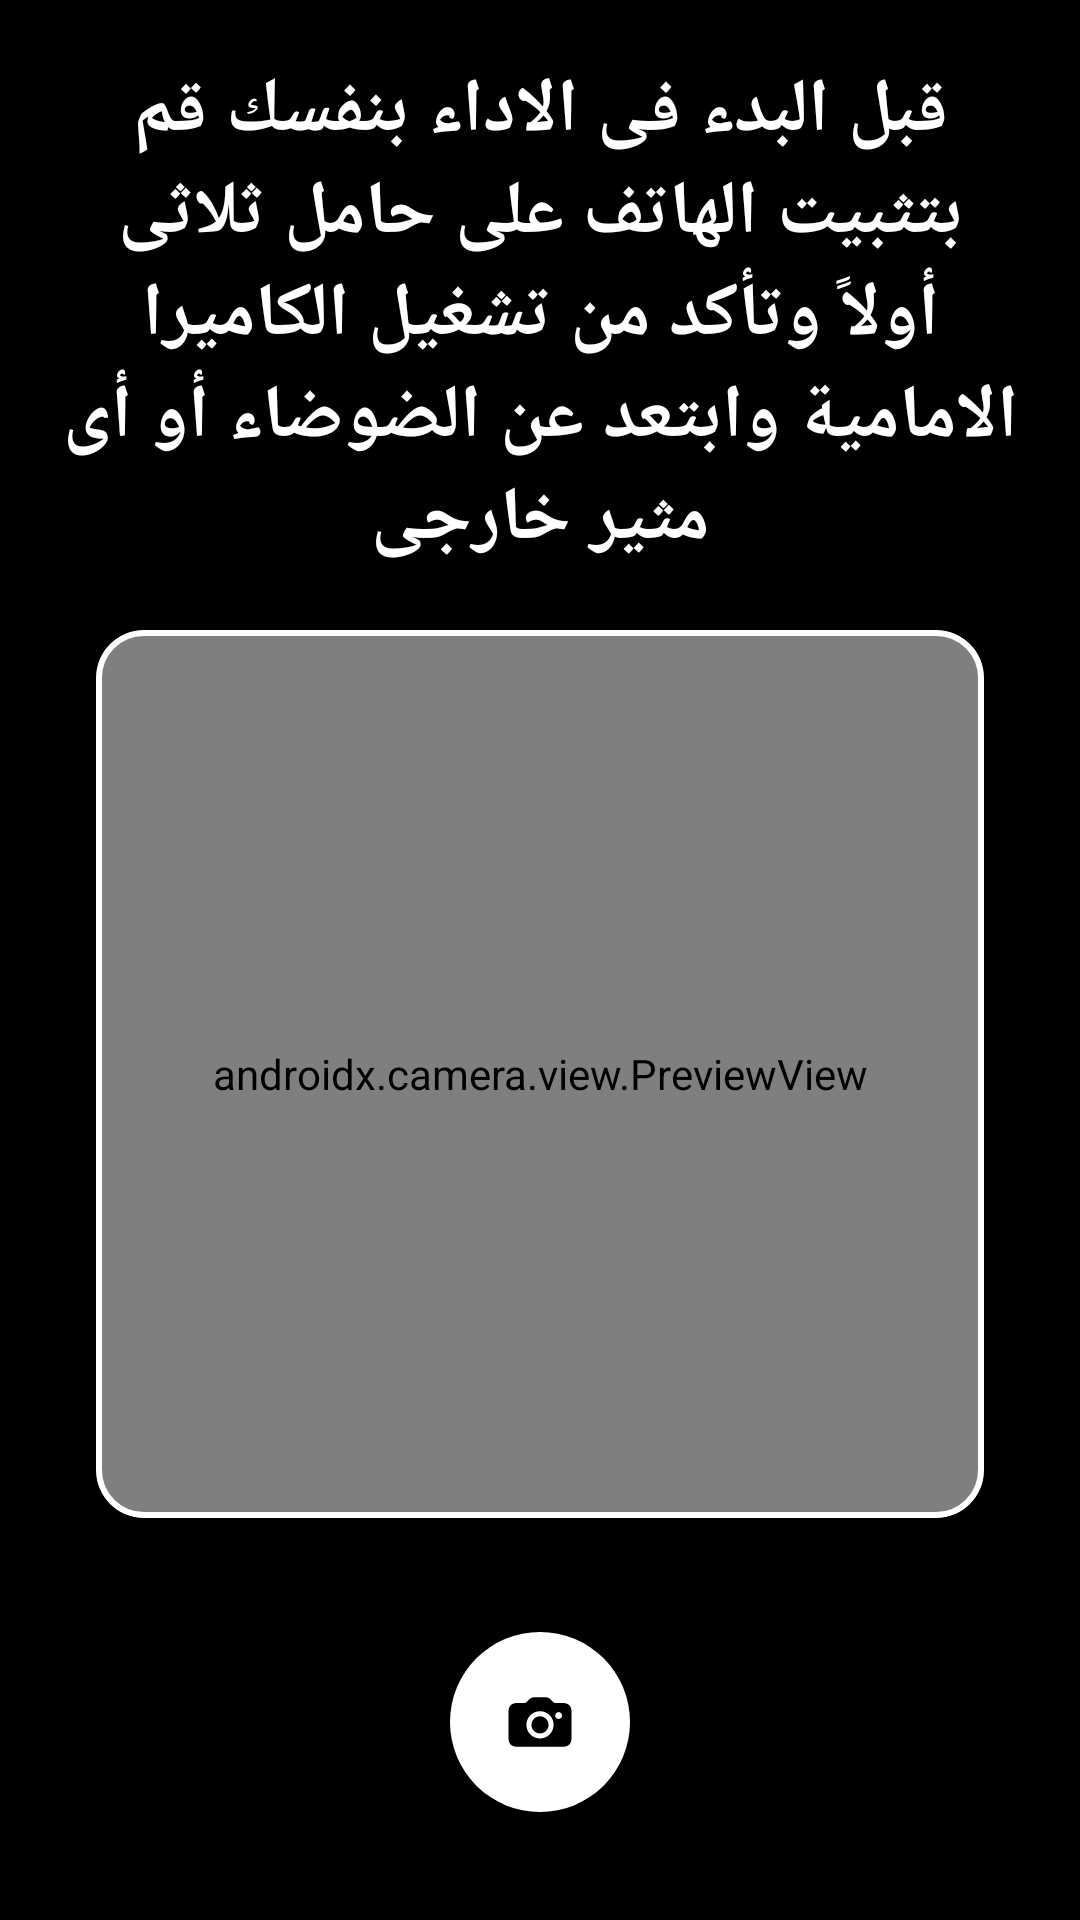

Locate icon controls on the screen. Image size 1080w x 1920h, boxes as (x1, y1, x2, y2).
camera glyph: (450, 1632, 630, 1812)
